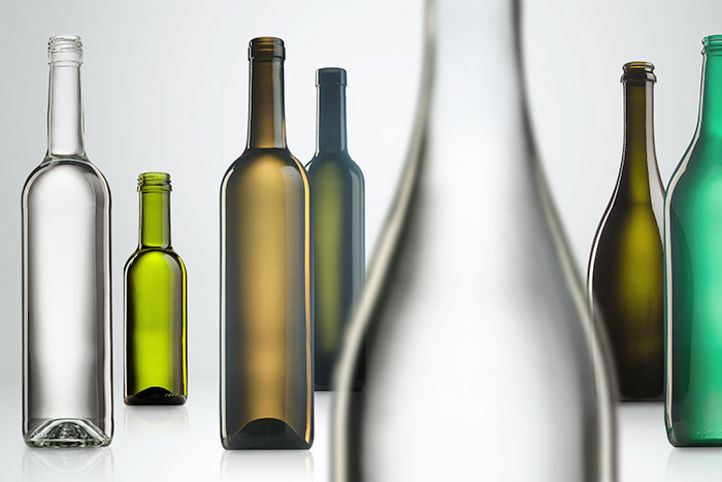glass_bottle: (16, 28, 120, 453), (116, 167, 193, 416)
